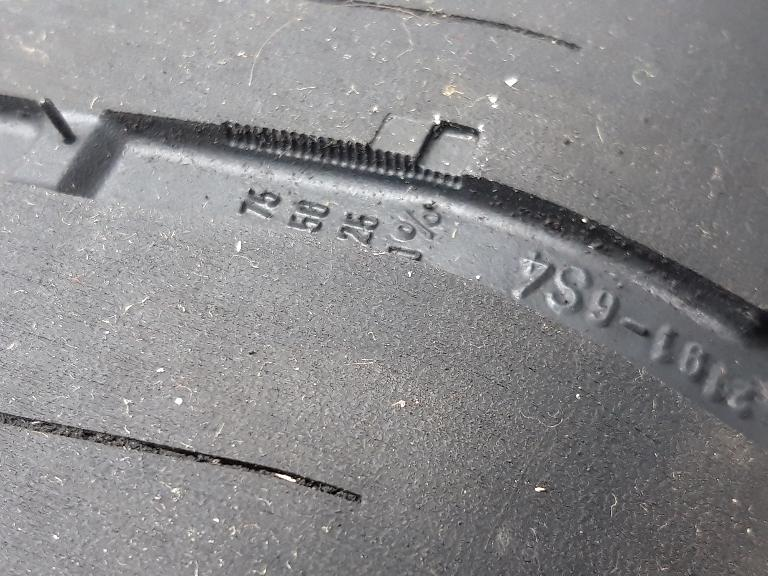temoin:25: (358, 105, 491, 206)
